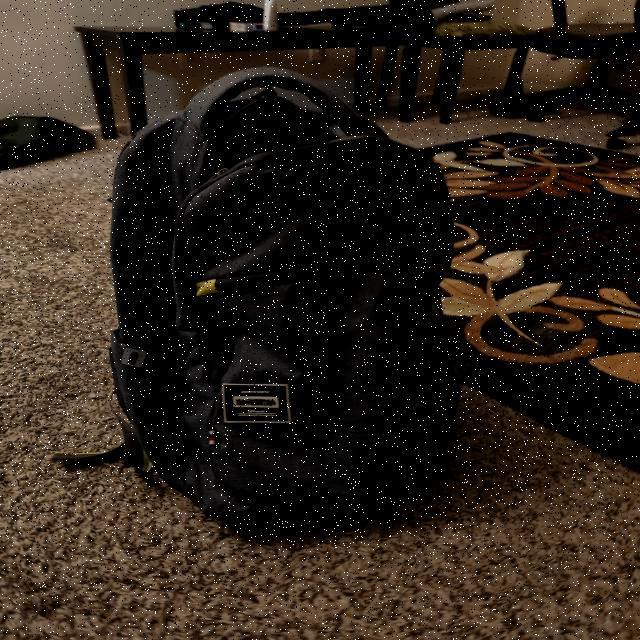bag: (111, 64, 433, 524)
